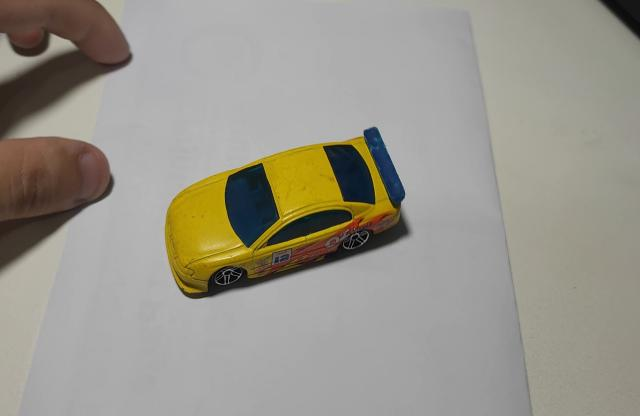02_OZSOME: (163, 128, 406, 301)
